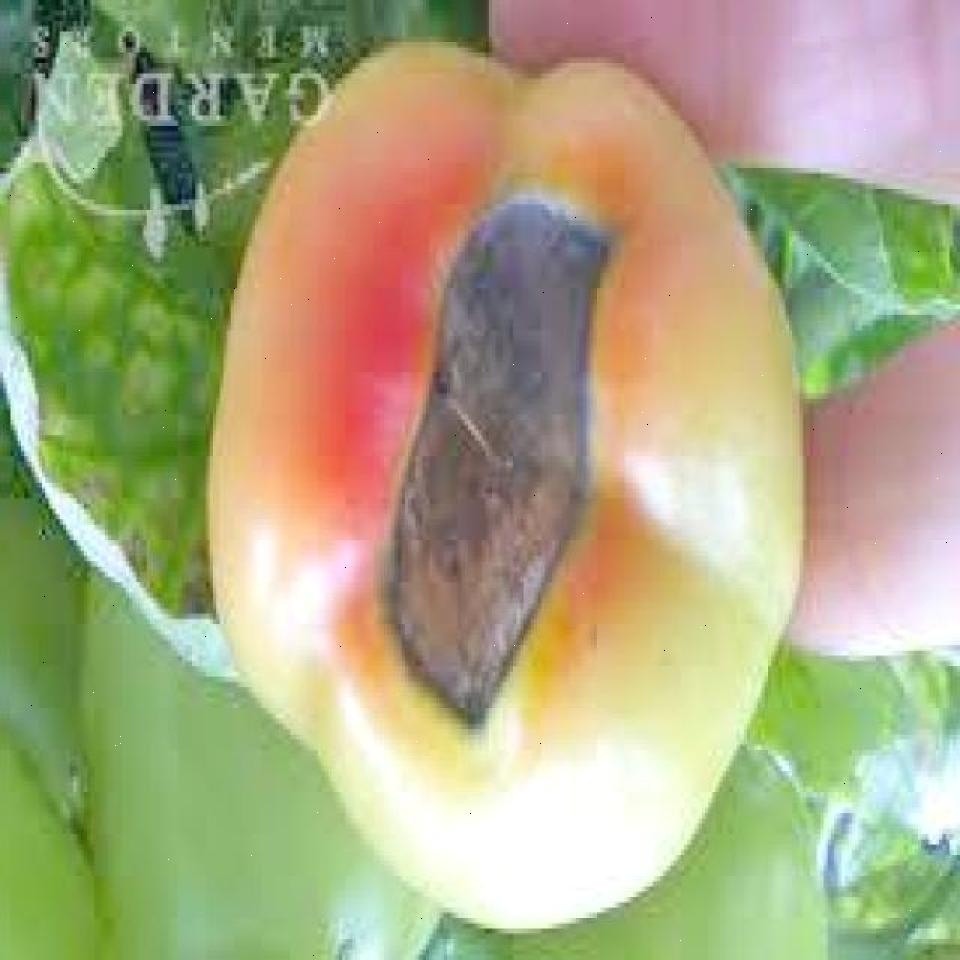Blossom_end_rot: (389, 176, 623, 748)
